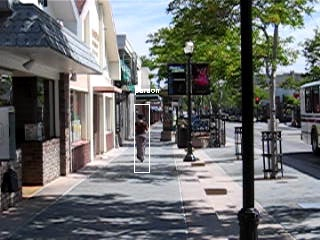person: (134, 112, 149, 163), (133, 112, 148, 163), (135, 112, 150, 163), (134, 111, 149, 162), (134, 113, 149, 164)
target_negative: (220, 9, 267, 179), (59, 210, 230, 240), (20, 63, 130, 91), (86, 57, 106, 188), (141, 69, 201, 80), (285, 11, 288, 138)
